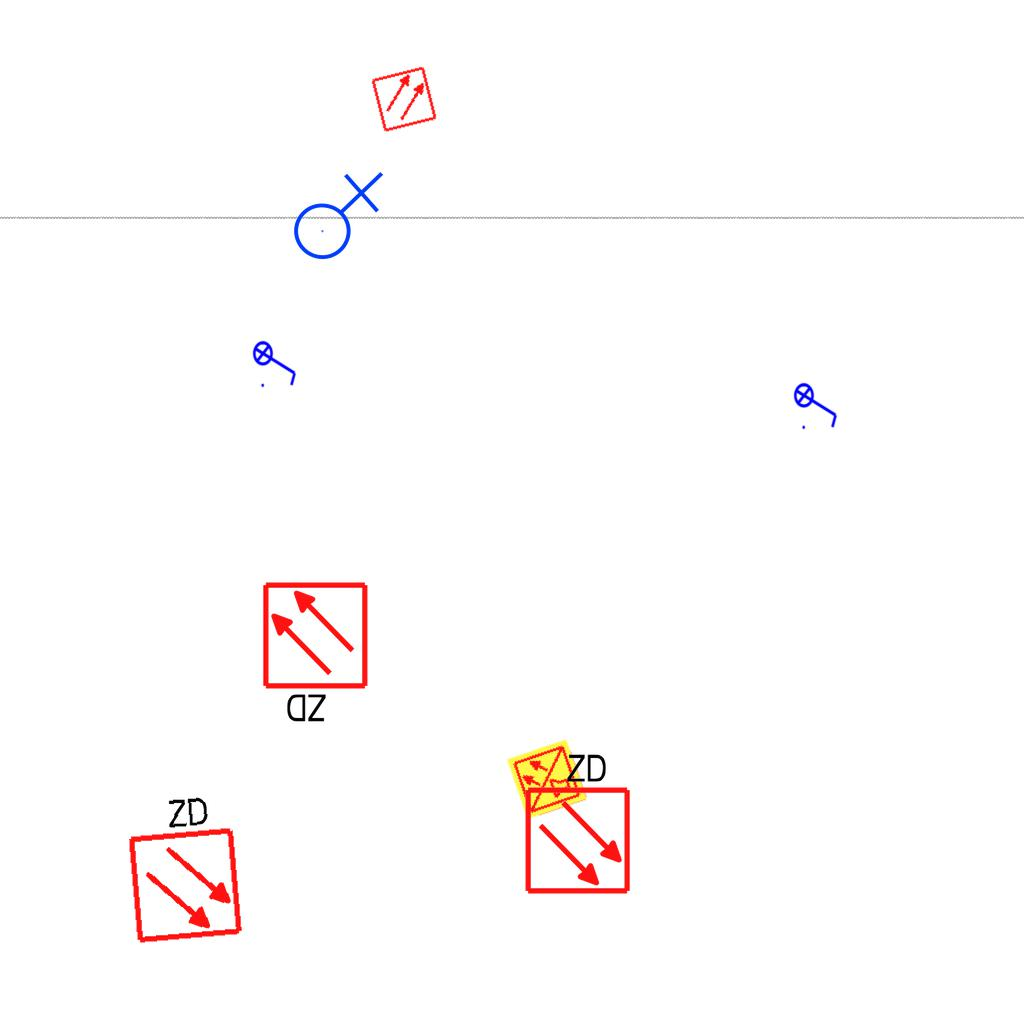Ausschalter_beleuchtet: (252, 334, 300, 390), (793, 376, 841, 432)
Elektroanschluss_allgemein_230V_Geraeteanschlussdose_230V: (285, 167, 384, 261)
OKW_Multisensormelder_(Kombination_optischer_Rauch-Kahlenmonoxid_Waerme-Melder): (505, 737, 589, 821)
RMO_Rauchmelder_optischer: (370, 65, 438, 133)
ZD_Melder_in_Zwischendecke_mit_Revisionsoeffnung_mind_40_x_40_cm: (118, 787, 246, 946), (260, 580, 374, 729), (519, 747, 633, 896)
